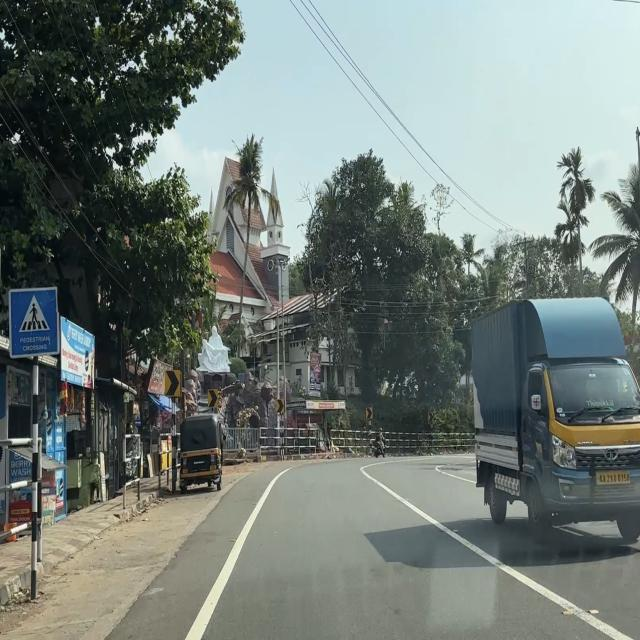PEDESTRIAN_CROSSING: (8, 286, 60, 359)
TURN_RIGHT: (164, 369, 181, 396), (208, 388, 218, 408), (276, 399, 284, 413), (366, 407, 373, 420)
